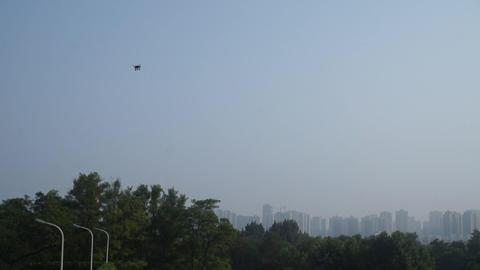UAV: (132, 64, 142, 71)
